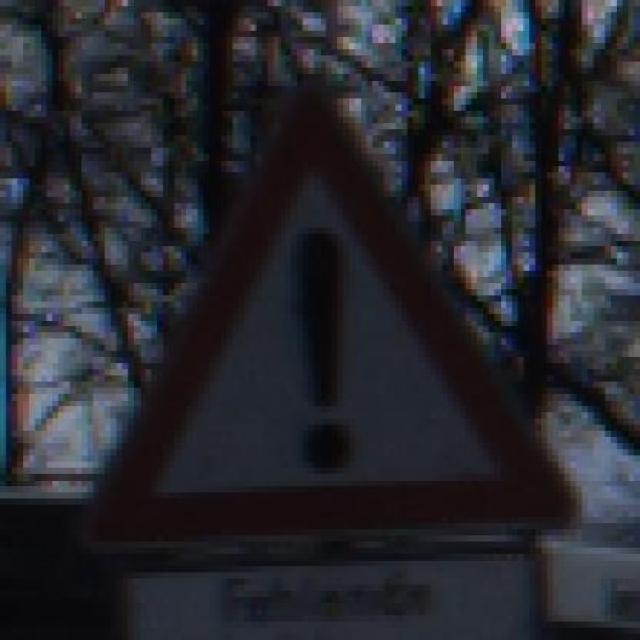Attention Please-: (76, 68, 582, 542)
